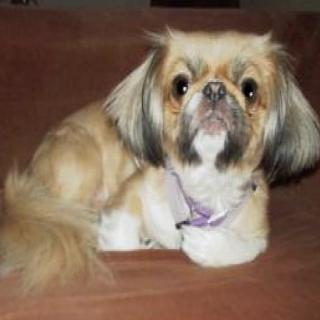dog: (99, 24, 320, 195)
nose: (200, 76, 228, 106)
